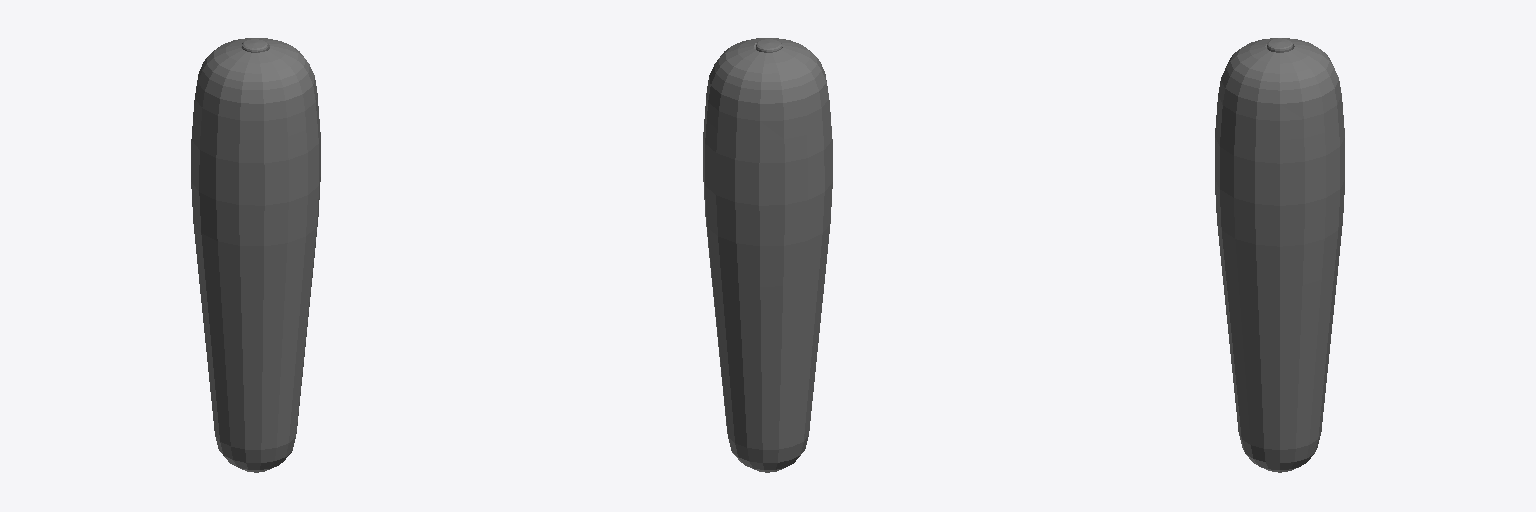
File: porkkana.obj
3 views of the same model, side by side, from view 1: azimuth 30°, elevation 25°; view 2: azimuth 150°, elevation 25°; view 3: azimuth 270°, elevation 25° (orthographic).
Visible parts, largest first — view 1: pSphere2_Mesh.002; view 2: pSphere2_Mesh.002; view 3: pSphere2_Mesh.002.
Part boxes in pixels (x1,y1,x2,y2): pSphere2_Mesh.002: (191, 38, 320, 472); pSphere2_Mesh.002: (703, 38, 832, 472); pSphere2_Mesh.002: (1215, 38, 1344, 472).
Bounding box in the file's own units: 0.035 × 0.1259 × 0.035.